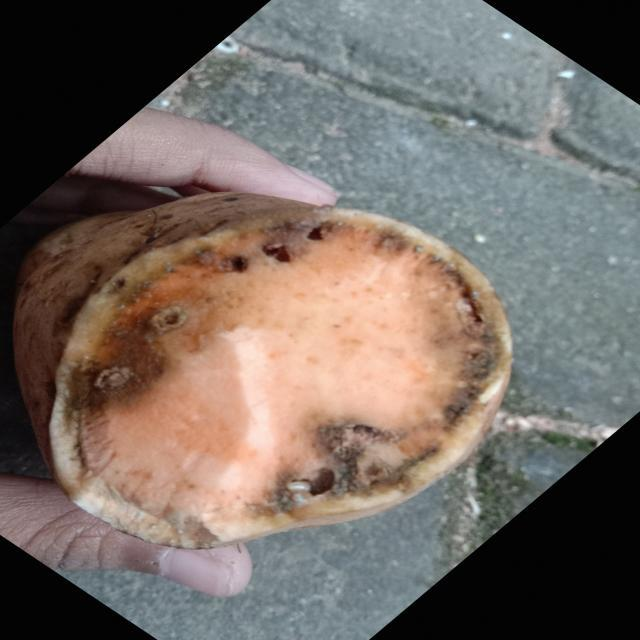Sick Sweet Potato_Tuber Rot: (53, 220, 510, 548)
